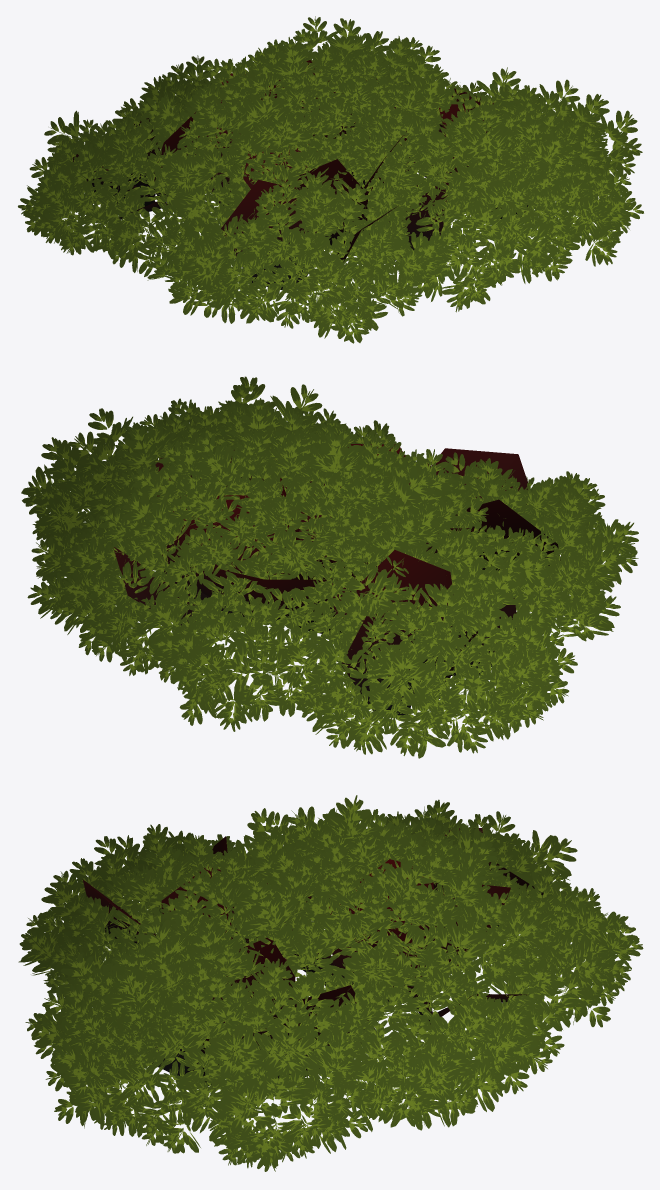
Rendered from SM_Env_Bush_Tropical_04.fbx.
3 renders of one model, top to bottom at view 1: azimuth 30°, elevation 25°; view 2: azimuth 150°, elevation 25°; view 3: azimuth 270°, elevation 25°, orthographic. The views are drawn at different scales.
Visible parts, largest first — view 1: SM_Env_Bush_Tropical_04_Leaves_LOD0, SM_Env_Bush_Tropical_04_Branches_LOD0; view 2: SM_Env_Bush_Tropical_04_Leaves_LOD0, SM_Env_Bush_Tropical_04_Branches_LOD0; view 3: SM_Env_Bush_Tropical_04_Leaves_LOD0, SM_Env_Bush_Tropical_04_Branches_LOD0.
Part boxes in pixels (left/top/right/bottom): SM_Env_Bush_Tropical_04_Leaves_LOD0: left=18, top=16, right=643, bottom=343; SM_Env_Bush_Tropical_04_Branches_LOD0: left=72, top=60, right=528, bottom=289; SM_Env_Bush_Tropical_04_Leaves_LOD0: left=21, top=376, right=638, bottom=758; SM_Env_Bush_Tropical_04_Branches_LOD0: left=113, top=444, right=560, bottom=715; SM_Env_Bush_Tropical_04_Leaves_LOD0: left=18, top=795, right=643, bottom=1171; SM_Env_Bush_Tropical_04_Branches_LOD0: left=82, top=828, right=543, bottom=1088.
Size of what is drawn, in the model's own units: 777 by 271 by 661.
